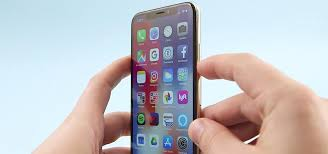iphone: (126, 2, 203, 152)
iphone10: (124, 1, 201, 150)
